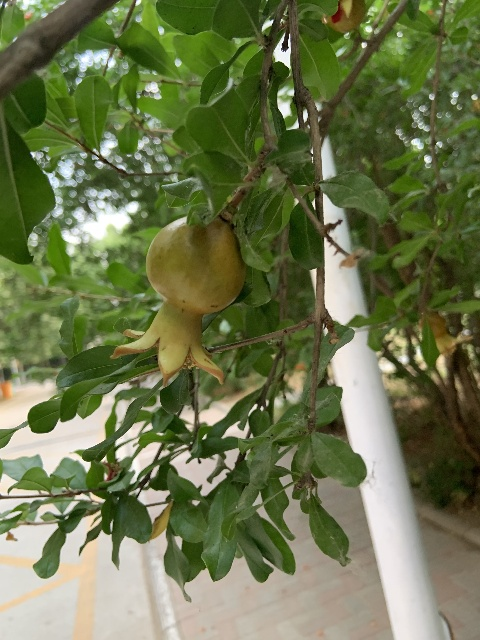early-fruit: (303, 0, 407, 33), (420, 312, 472, 360)
mid-growth: (109, 218, 245, 387)
